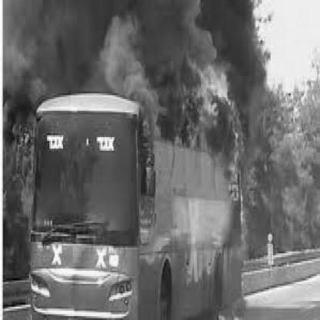Fire: (175, 26, 252, 206)
